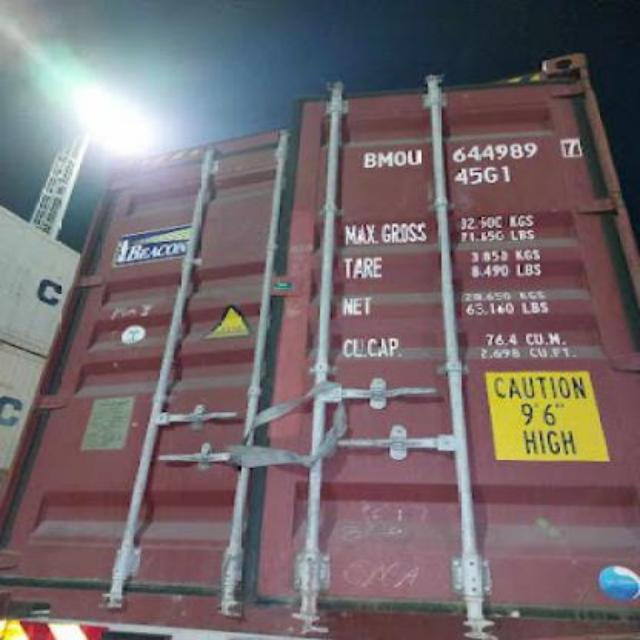4: (482, 144, 498, 162), (468, 146, 480, 162)
6: (452, 146, 468, 164)
7: (562, 140, 580, 156)
8: (511, 144, 524, 160)
9: (494, 143, 510, 161), (526, 141, 538, 159)
B: (362, 152, 380, 168)
M: (378, 150, 394, 166)
O: (394, 150, 406, 168)
U: (408, 150, 422, 166)
